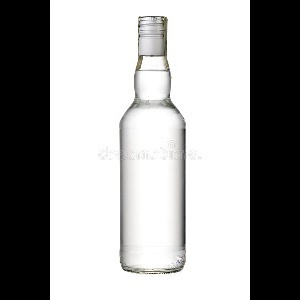emptybottle: (119, 16, 186, 274)
